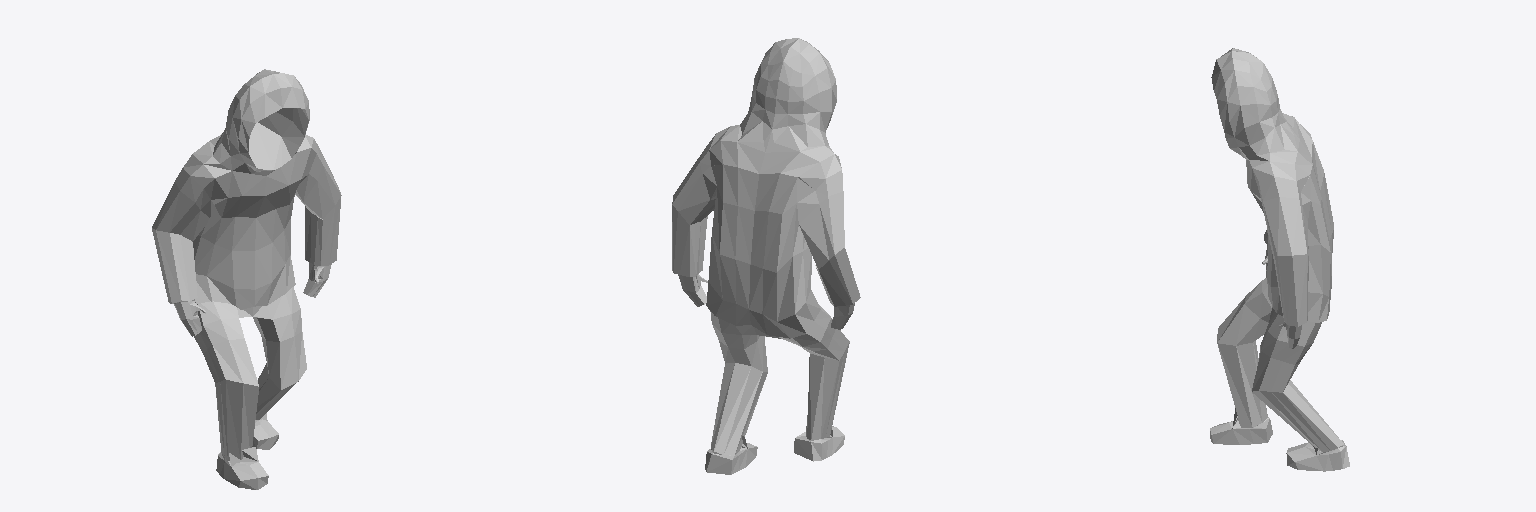
File: Shadowmanv_000004.obj
3 views of the same model, side by side, from view 1: azimuth 30°, elevation 25°; view 2: azimuth 150°, elevation 25°; view 3: azimuth 270°, elevation 25° (orthographic).
Visible parts, largest first — view 1: Cube.000; view 2: Cube.000; view 3: Cube.000.
Boxes of the visible parts, x1=… form: Cube.000: x1=152, y1=69, x2=341, y2=489; Cube.000: x1=672, y1=38, x2=860, y2=474; Cube.000: x1=1210, y1=48, x2=1349, y2=471.
Bounding box in the file's own units: 5.01 × 10.9 × 3.44.